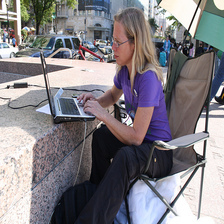laptop: (38, 52, 104, 134)
